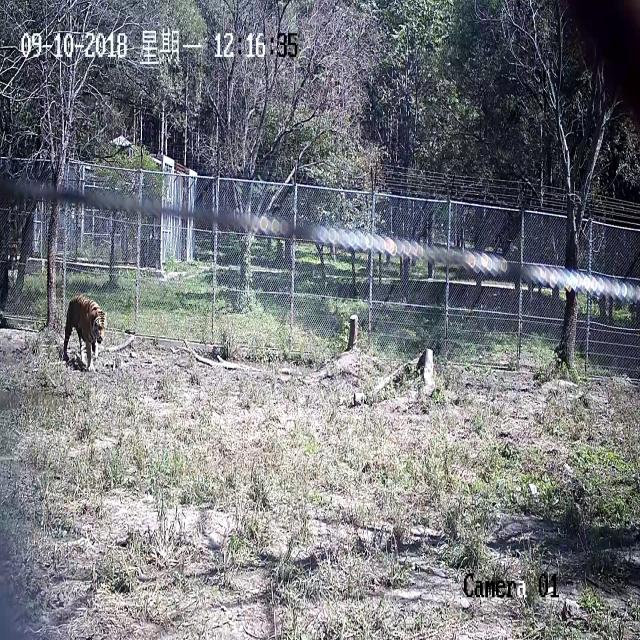Tiger: (46, 260, 118, 404)
